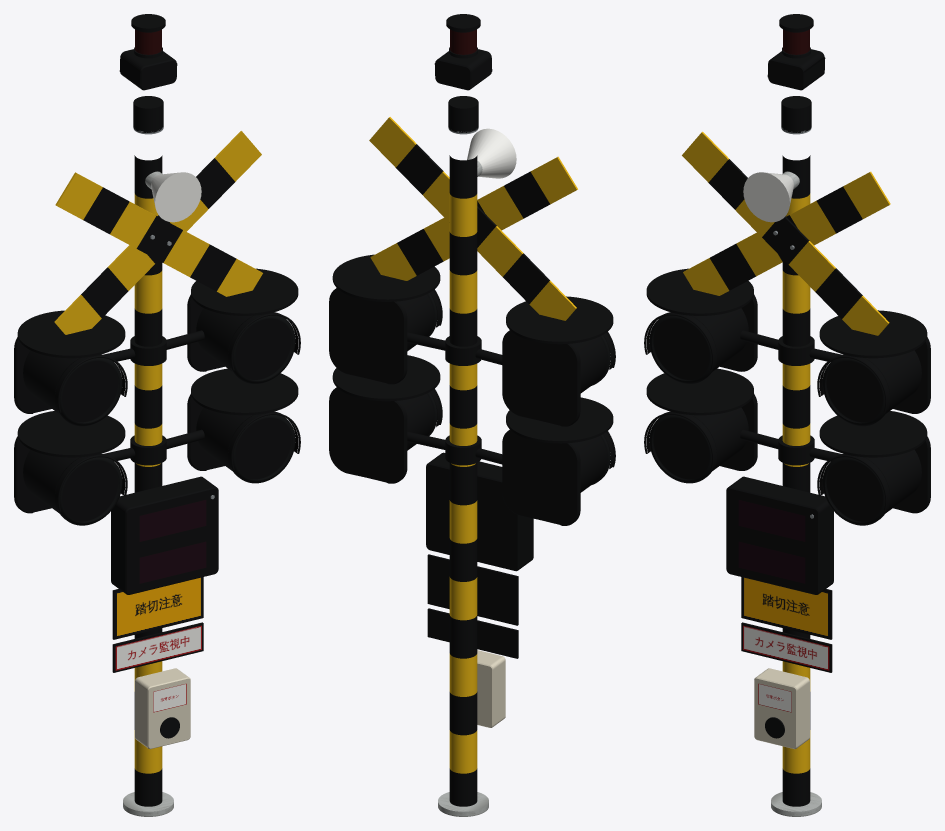
3 views of the same model, side by side, from view 1: azimuth 30°, elevation 25°; view 2: azimuth 150°, elevation 25°; view 3: azimuth 330°, elevation 25° (orthographic).
Visible parts, largest first — view 1: jp-crossing-alarm, opt_lamps2_on, opt_dir_on, opt_signs_on, opt_emergency_on, opt_sp_on, opt_horn_on, lamp_dirR, lamp_dirL, lamp_sp; view 2: jp-crossing-alarm, opt_lamps2_on, opt_dir_on, opt_signs_on, opt_sp_on, opt_emergency_on, opt_horn_on, lamp_sp; view 3: jp-crossing-alarm, opt_lamps2_on, opt_dir_on, opt_signs_on, opt_emergency_on, opt_sp_on, opt_horn_on, lamp_dirR, lamp_dirL, lamp_sp.
Part boxes in pixels (left/top/right/bottom): jp-crossing-alarm: left=14, top=96, right=300, bottom=816; opt_lamps2_on: left=14, top=368, right=300, bottom=525; opt_dir_on: left=111, top=476, right=218, bottom=594; opt_signs_on: left=112, top=577, right=203, bottom=672; opt_emergency_on: left=135, top=668, right=190, bottom=749; opt_sp_on: left=119, top=14, right=177, bottom=90; opt_horn_on: left=145, top=171, right=201, bottom=222; lamp_dirR: left=139, top=500, right=206, bottom=541; lamp_dirL: left=139, top=541, right=206, bottom=583; lamp_sp: left=135, top=29, right=161, bottom=54; jp-crossing-alarm: left=329, top=96, right=615, bottom=816; opt_lamps2_on: left=329, top=355, right=615, bottom=525; opt_dir_on: left=426, top=452, right=533, bottom=571; opt_signs_on: left=427, top=554, right=518, bottom=658; opt_sp_on: left=434, top=14, right=492, bottom=90; opt_emergency_on: left=477, top=650, right=505, bottom=727; opt_horn_on: left=467, top=128, right=516, bottom=178; lamp_sp: left=450, top=29, right=476, bottom=54; jp-crossing-alarm: left=644, top=96, right=930, bottom=816; opt_lamps2_on: left=644, top=368, right=930, bottom=525; opt_dir_on: left=726, top=476, right=833, bottom=594; opt_signs_on: left=741, top=577, right=832, bottom=672; opt_emergency_on: left=754, top=668, right=809, bottom=749; opt_sp_on: left=767, top=14, right=825, bottom=90; opt_horn_on: left=743, top=171, right=799, bottom=222; lamp_dirR: left=738, top=500, right=805, bottom=541; lamp_dirL: left=738, top=541, right=805, bottom=583; lamp_sp: left=783, top=29, right=809, bottom=54.
Size of the model in its own units: 1.6 by 4.5 by 0.56.
Materials: 23 (4 with a texture image).
